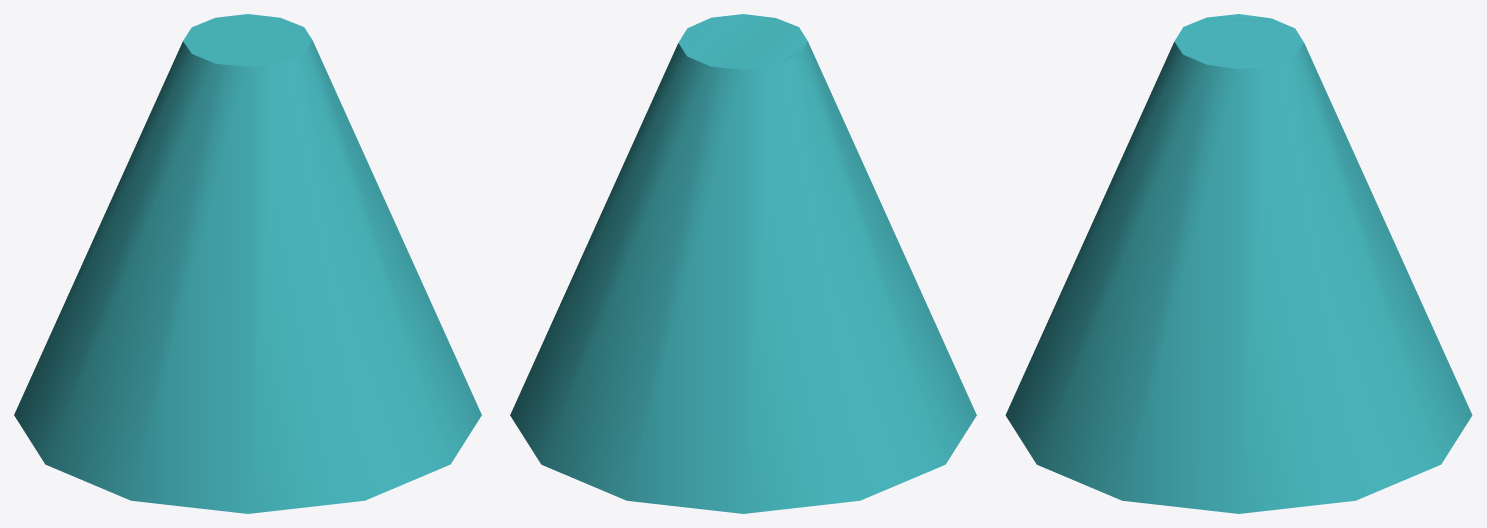
Rendered from CastleConeBaseBlue.glb.
The picture shows the model from 3 angles, left to right: view 1: azimuth 30°, elevation 25°; view 2: azimuth 150°, elevation 25°; view 3: azimuth 270°, elevation 25°; orthographic projection.
Parts seen in each view (by area): view 1: CastleConeBaseBlue; view 2: CastleConeBaseBlue; view 3: CastleConeBaseBlue.
Boxes of the visible parts, x1,y1,x2,y2 form: CastleConeBaseBlue: [14, 14, 481, 513]; CastleConeBaseBlue: [510, 14, 976, 513]; CastleConeBaseBlue: [1005, 14, 1472, 513].
Size of the model in its own units: 1.31 by 1.16 by 1.31.
